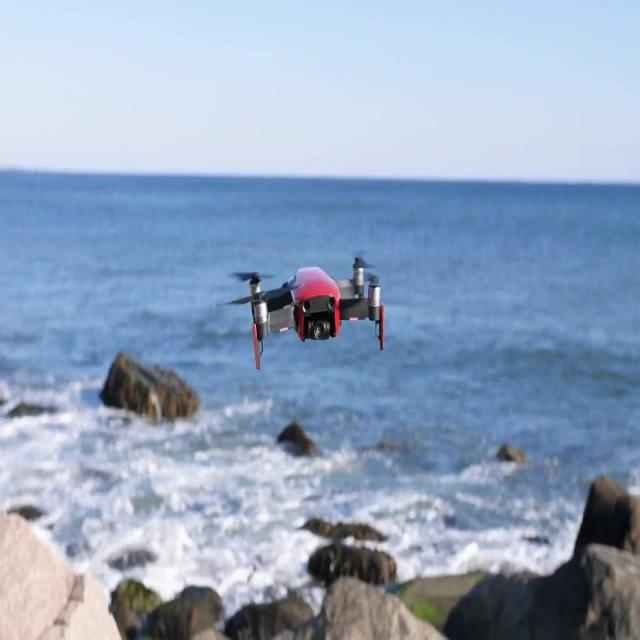drone: (226, 249, 397, 375)
